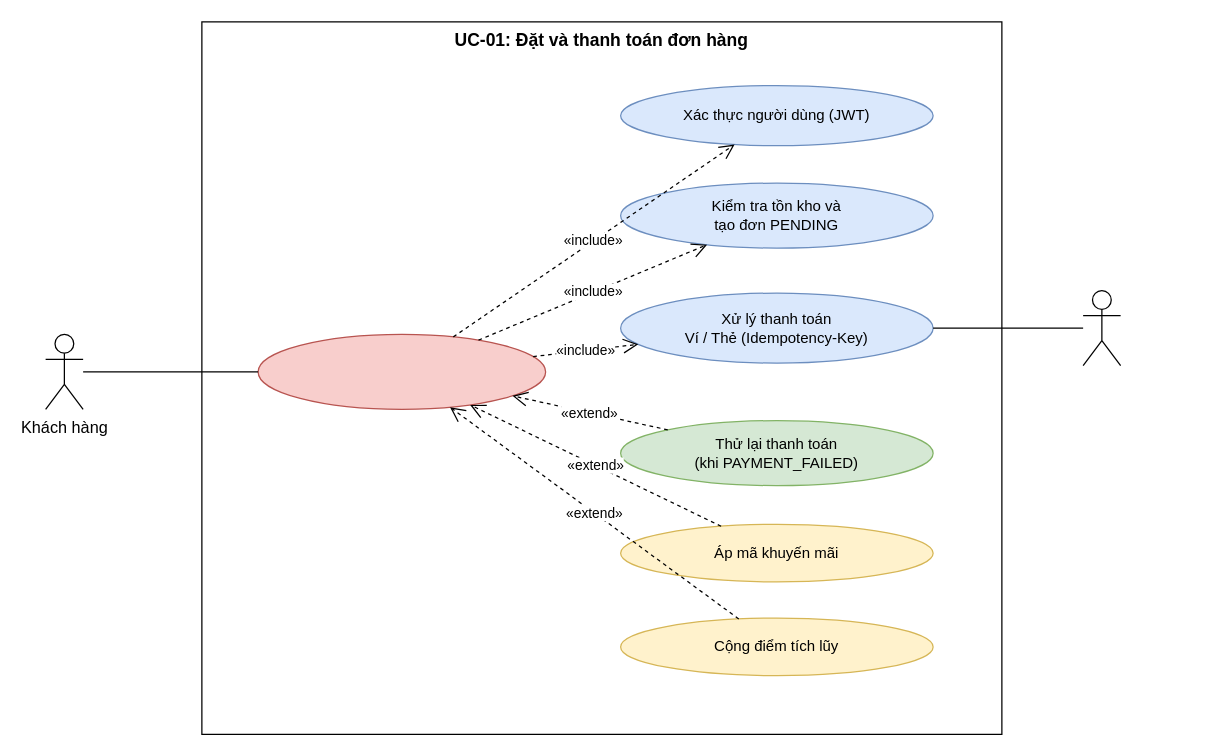
Image size: 1229x756. Some labels were removed from this diagram. Here are the shapes that lost their labels. From the top down, the centre of each, then its label:
the point at 1101,327: Payment Service (mô phỏng)
the point at 401,371: Đặt và thanh toán đơn hàng
